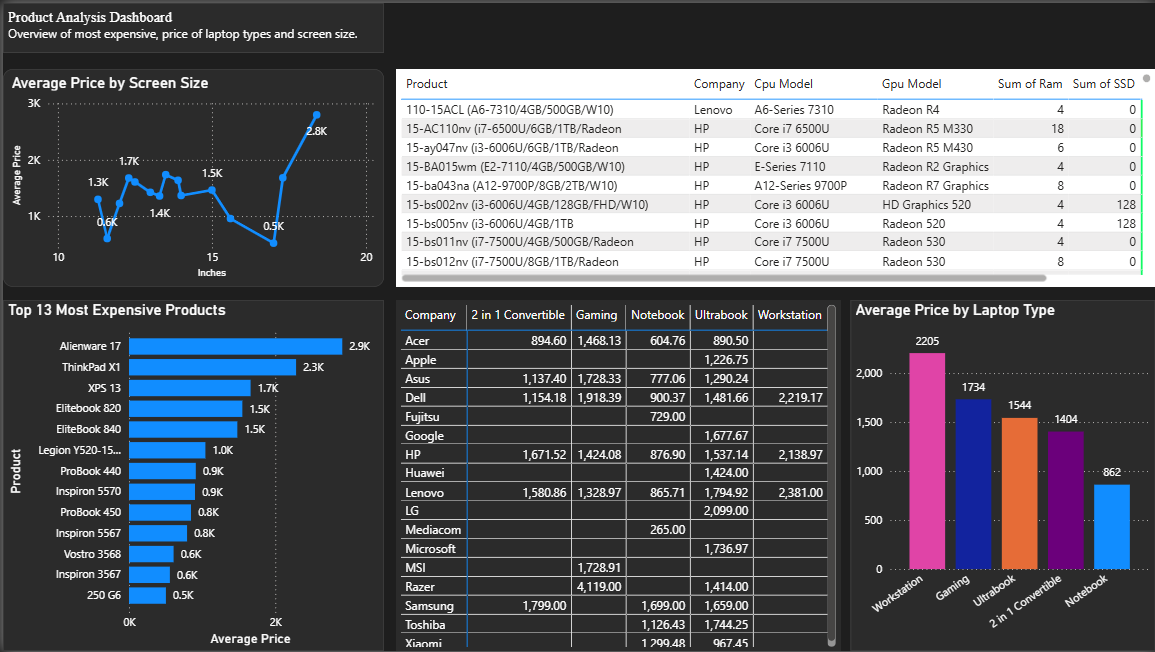

The dashboard page shown, as its layout file describes it:
{"tool":"powerbi","page":{"name":"Product Insight","canvas":[1280,720],"ordinal":3},"visuals":[{"type":"clusteredBarChart","title":"Top 13 Most Expensive Products","fields":{"Category":["Table1.Product"],"Y":["Table1.Average Price"]},"box":[0,330,423.3,390],"z":0},{"type":"clusteredColumnChart","title":"Average Price by Laptop Type","fields":{"Y":["Table1.Average Price"],"Category":["Table1.TypeName"]},"box":[941.7,330,338.3,390],"z":1000},{"type":"lineChart","title":"Average Price by Screen Size","fields":{"Category":["Table1.Inches"],"Y":["Table1.Average Price"]},"box":[0,73.3,423.3,241.7],"z":2000},{"type":"pivotTable","fields":{"Rows":["Table1.Company"],"Columns":["Table1.TypeName"],"Values":["Table1.Average Price"]},"box":[436.7,330,493.3,390],"z":3000},{"type":"tableEx","fields":{"Values":["Table1.Product","Table1.Company","Table1.Cpu Model","Table1.Gpu Model","Sum(Table1.Ram)","Sum(Table1.SSD)","Sum(Table1.Price_euros)"]},"box":[436.7,73.3,843.3,241.7],"z":4000},{"type":"textbox","box":[0,0,423.3,55],"z":4001}]}

Visuals, with their boxes in screenshot pixels (x1, y1, x2, y2), scaled from the page's 1280x720 canvas onto the 1155x652 screenshot:
"Top 13 Most Expensive Products" clusteredBarChart: 0/299/382/651
"Average Price by Laptop Type" clusteredColumnChart: 850/299/1154/651
"Average Price by Screen Size" lineChart: 0/66/382/285
pivotTable - Table1.Company x Table1.TypeName: 394/299/839/651
tableEx - Table1.Product x Table1.Company: 394/66/1154/285
textbox: 0/0/382/50
